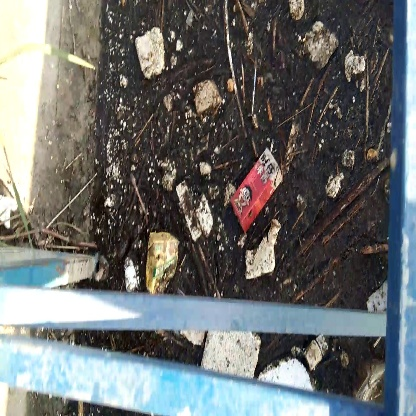milk-box: (226, 148, 288, 233)
